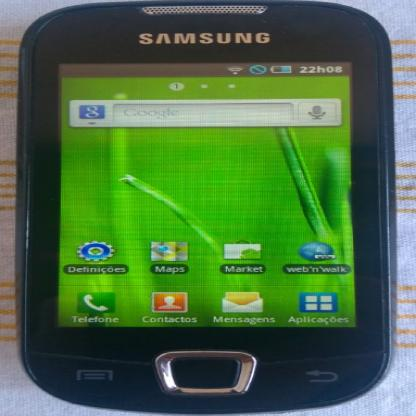SMARTPHONE: (13, 7, 392, 416)
